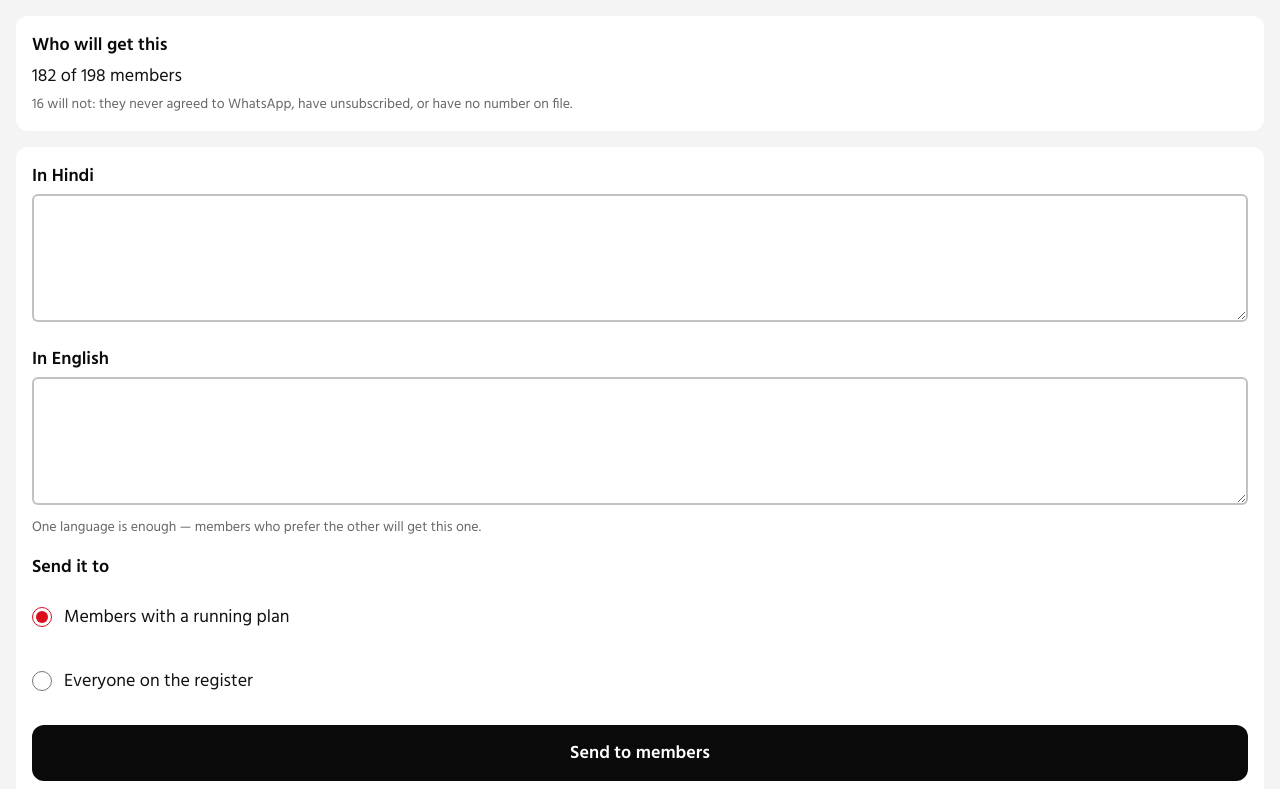
AnnouncementComposer › will not send an empty announcement
The width and height of the screenshot is (1280, 789).
Click the button "Send to members" at (640, 753), box [32,725,1248,781]
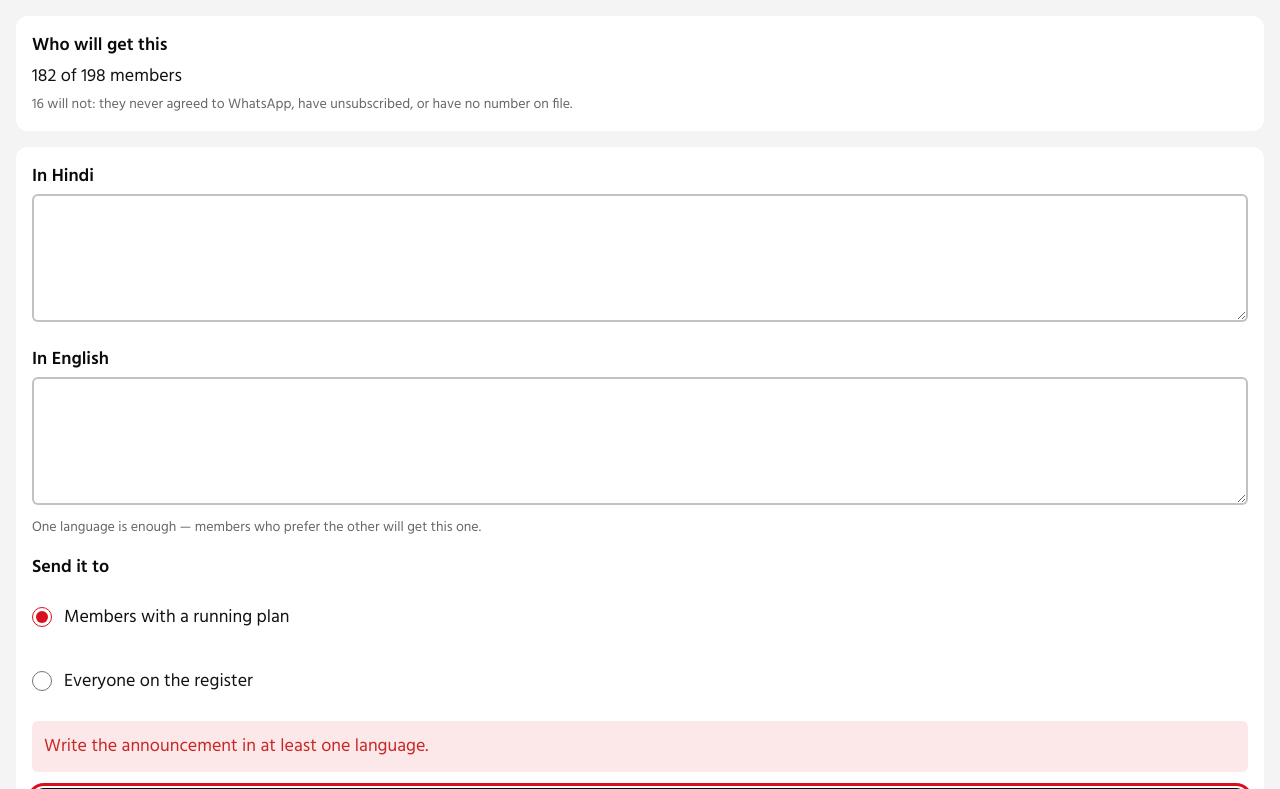
Check: the message "Write the announcement in at least one language." is shown, box [32,721,1248,772]
